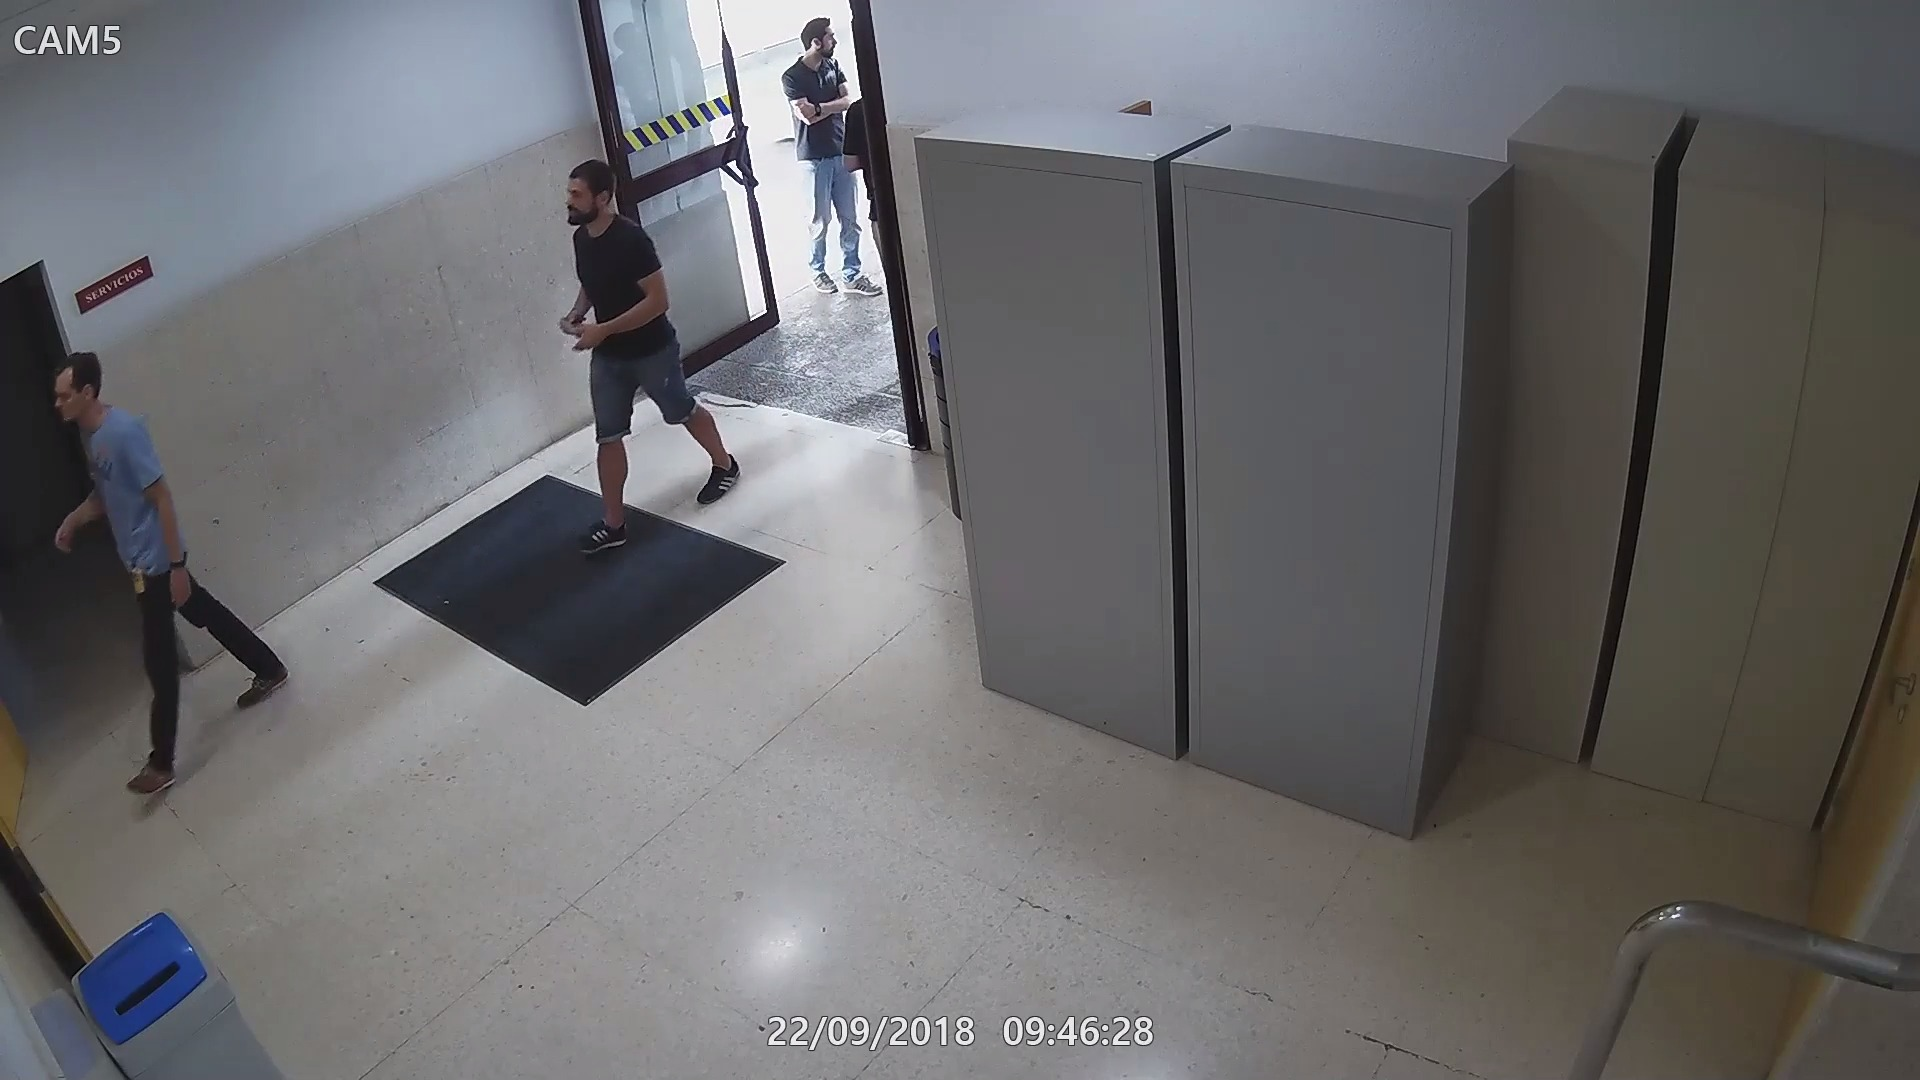Handgun: (558, 313, 597, 345)
